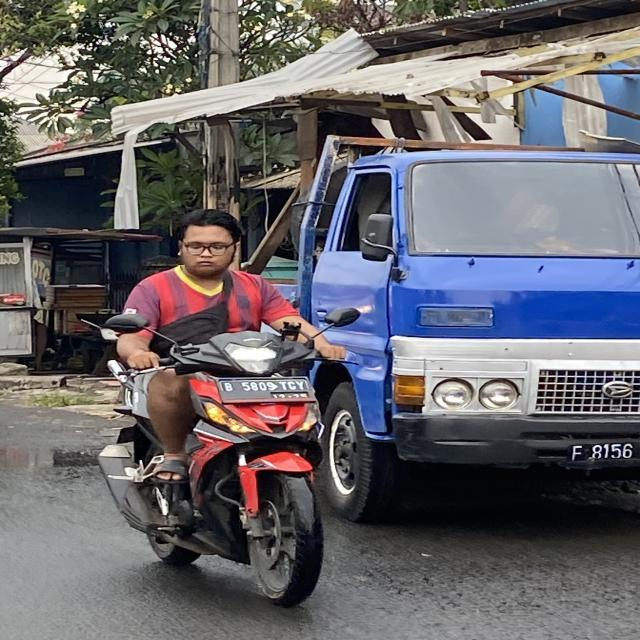Number Plate: (217, 377, 314, 402), (568, 443, 637, 461)
Rearview Mirror: (361, 214, 393, 261), (103, 313, 148, 333), (325, 308, 360, 326)
